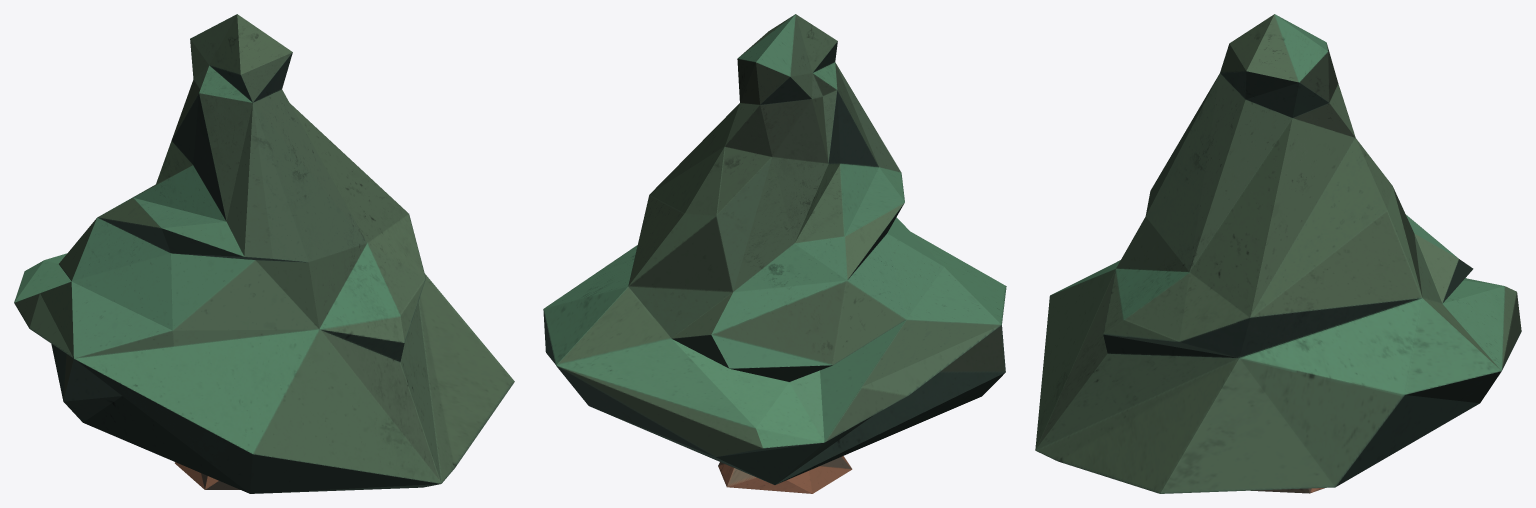
Rendered from Tree.obj.
3 views of the same model, side by side, from view 1: azimuth 30°, elevation 25°; view 2: azimuth 150°, elevation 25°; view 3: azimuth 270°, elevation 25° (orthographic).
Parts seen in each view (by area): view 1: Object.1; view 2: Object.1; view 3: Object.1.
Part boxes in pixels (x1=…): Object.1: x1=14, y1=14, x2=514, y2=493; Object.1: x1=543, y1=14, x2=1006, y2=493; Object.1: x1=1035, y1=14, x2=1521, y2=493.
Size of the model in its own units: 152 by 161 by 157.
1 material, 1 textured.
